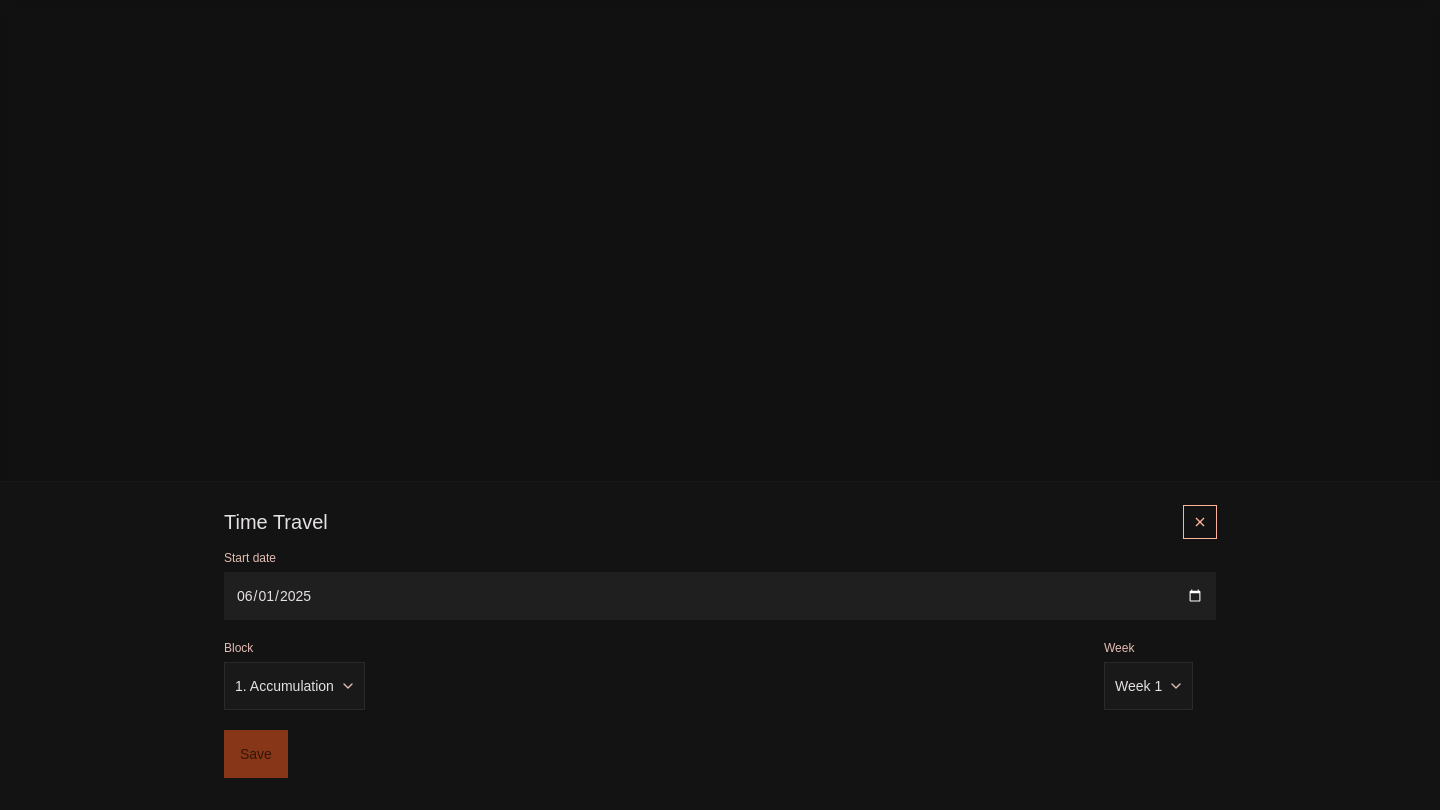
Test: TimeTravelSheet › save via start date change › renders error when updateActiveProgram rejects
This screenshot has width=1440, height=810.
Clear the date field named "Program start date" at (720, 596), box [224,572,1216,620]
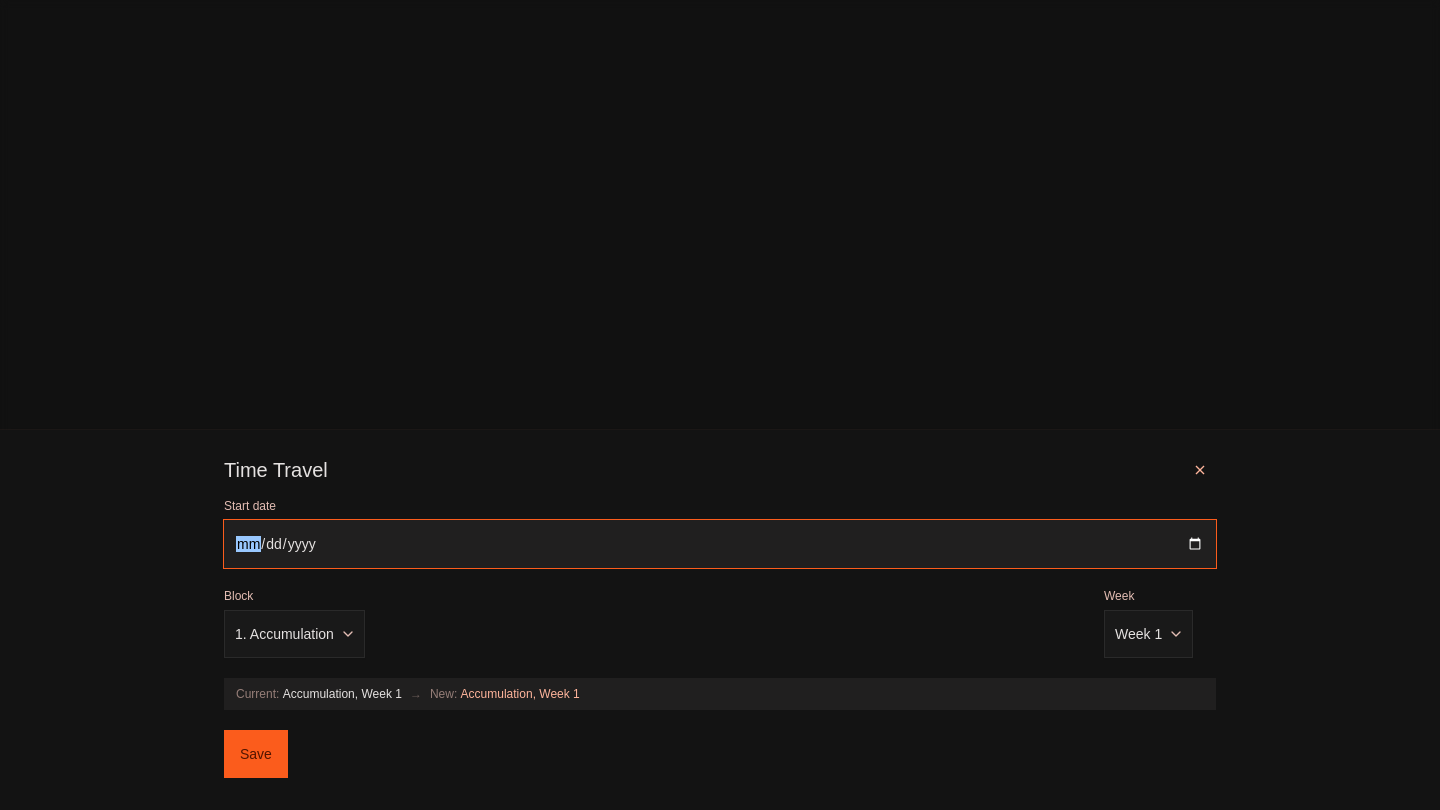
Type "2025-05-25" into the date field named "Program start date".
click(720, 544); type("2025-05-25")  # box [224,520,1216,568]
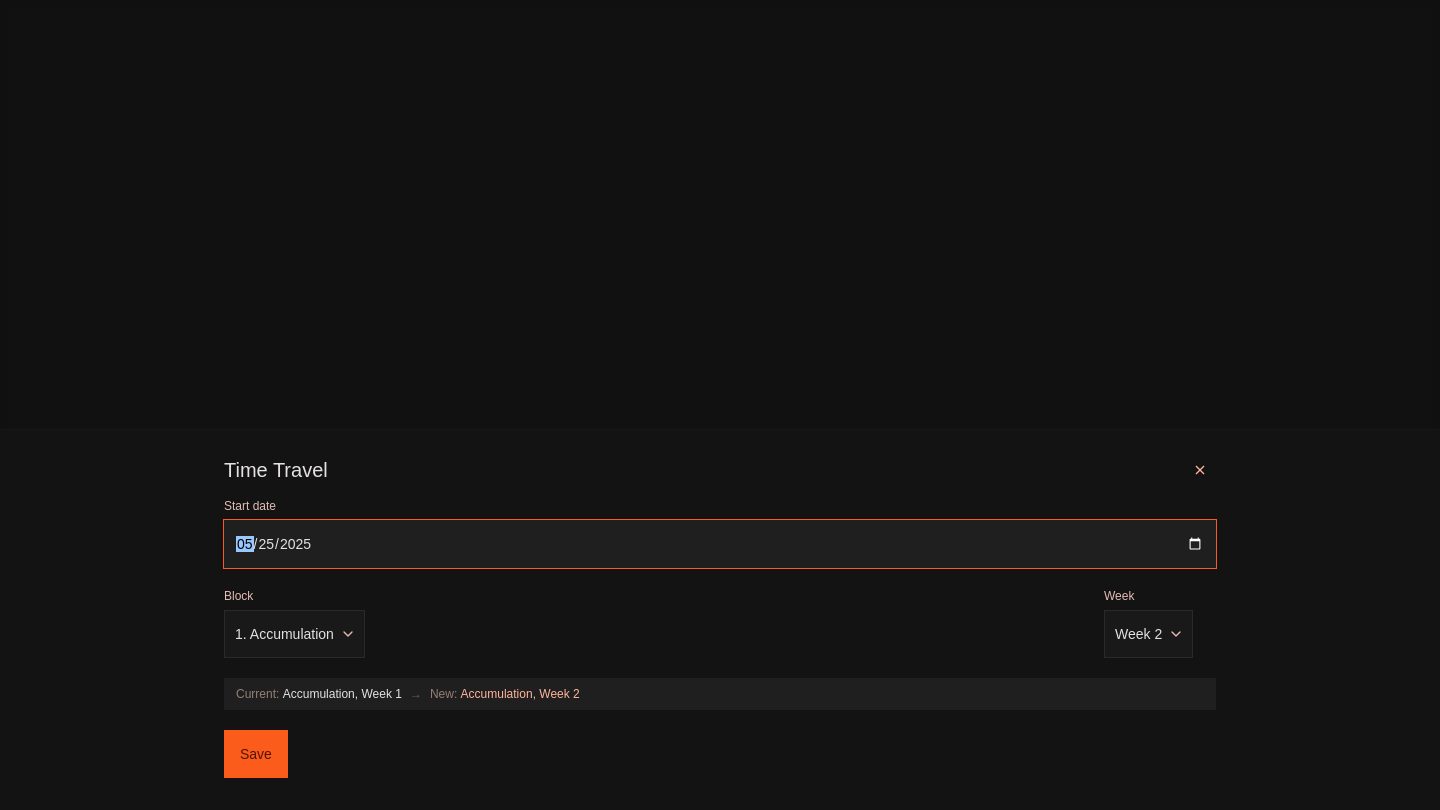
Click the button "Save".
click(256, 754)  # box [224,730,288,778]
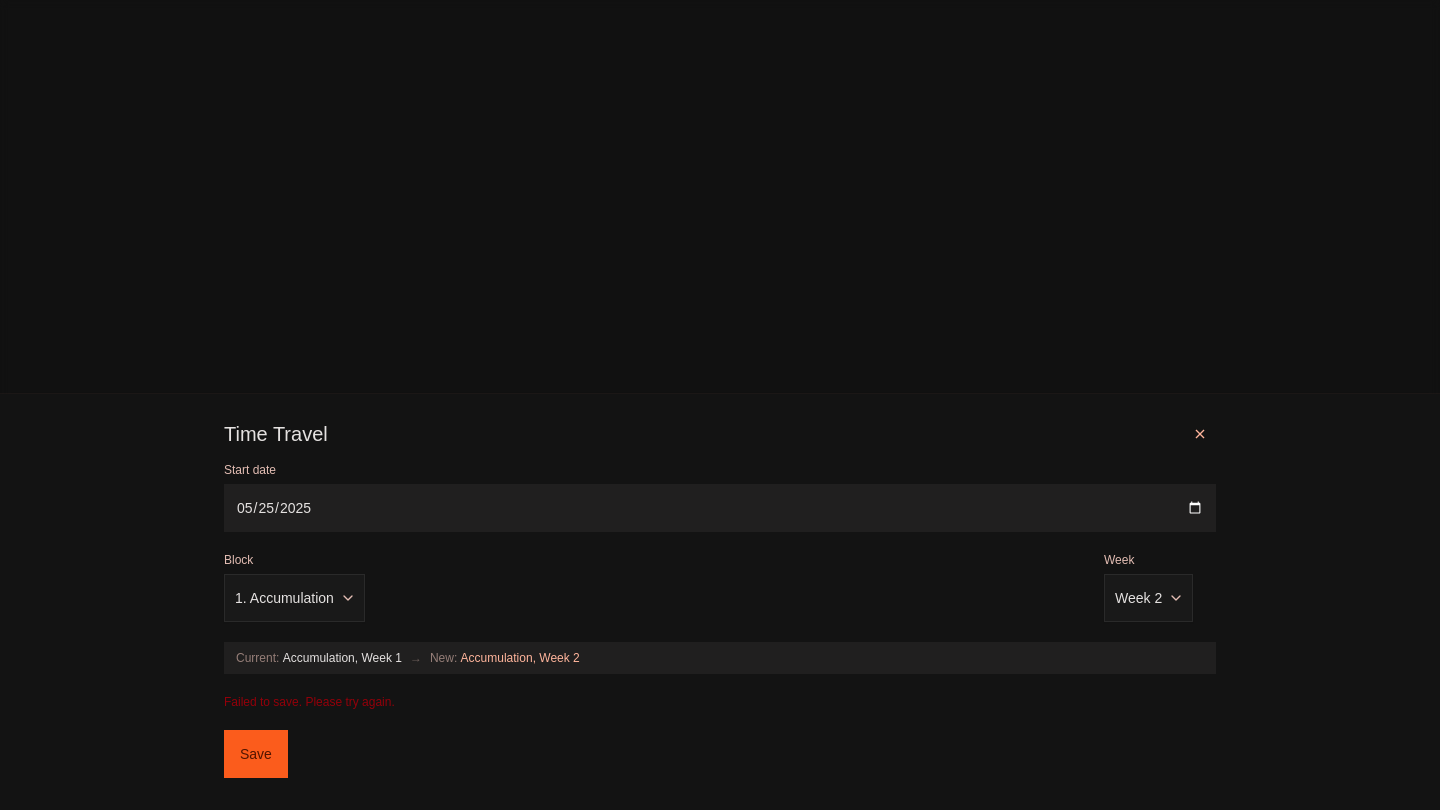
Expected: the text "Failed to save. Please try again." is shown, [224,695,395,709]
